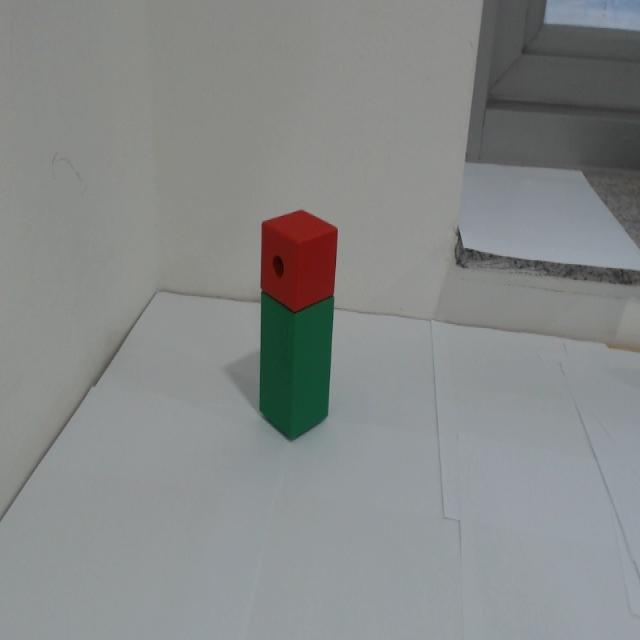cube: (264, 199, 360, 313)
